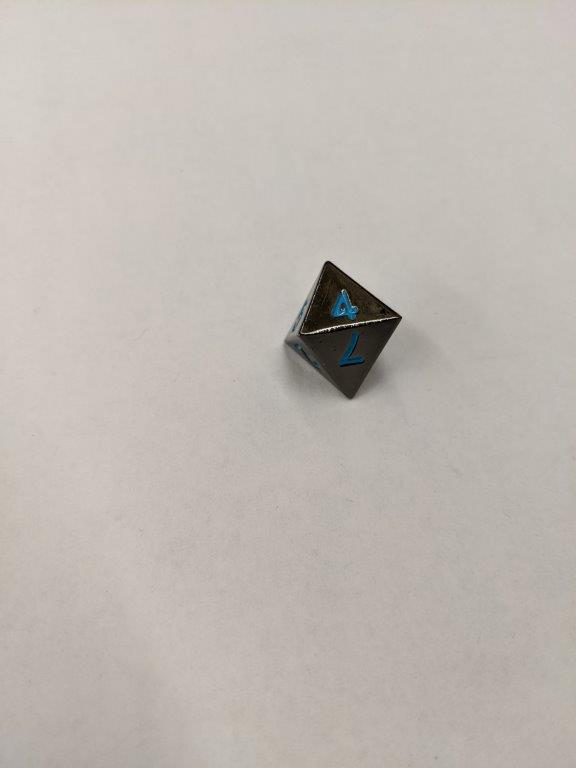d8-4: (281, 261, 402, 400)
